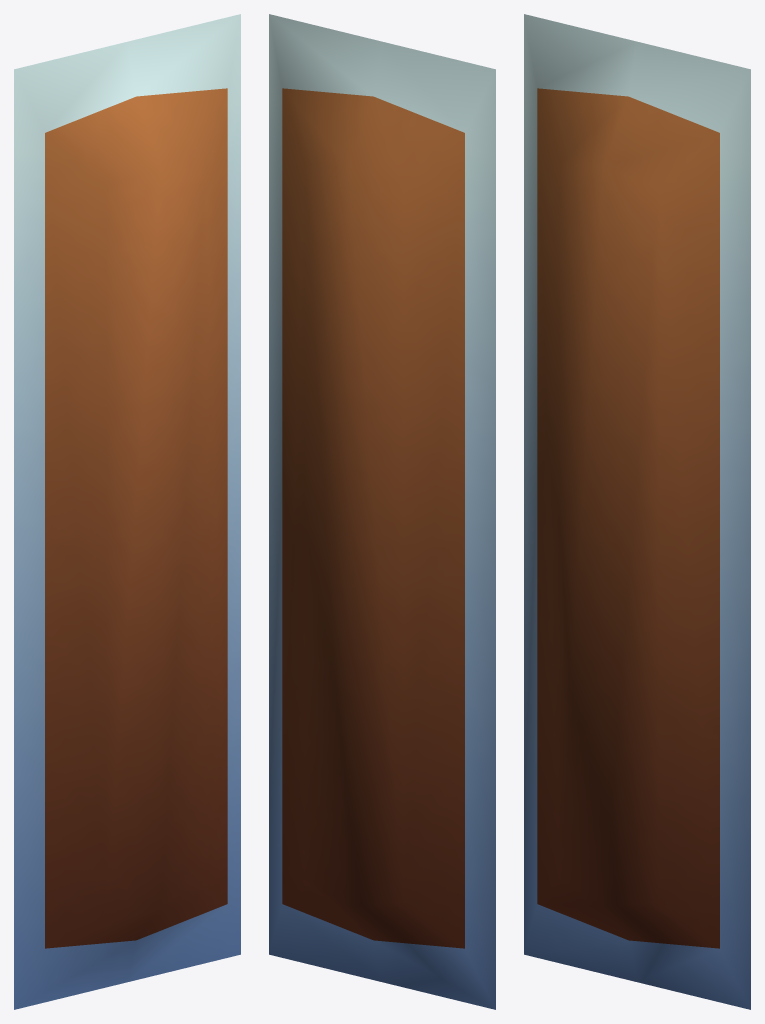
File: m_IcePops01.fbx
3 renders of one model, left to right at view 1: azimuth 30°, elevation 25°; view 2: azimuth 150°, elevation 25°; view 3: azimuth 330°, elevation 25°, orthographic.
Visible parts, largest first — view 1: m_IcePops01; view 2: m_IcePops01; view 3: m_IcePops01.
Boxes of the visible parts, x1=… form: m_IcePops01: x1=14, y1=14, x2=240, y2=1009; m_IcePops01: x1=269, y1=14, x2=495, y2=1009; m_IcePops01: x1=524, y1=14, x2=750, y2=1009.
Bounding box in the file's own units: 5.05 × 20 × 2.6.
